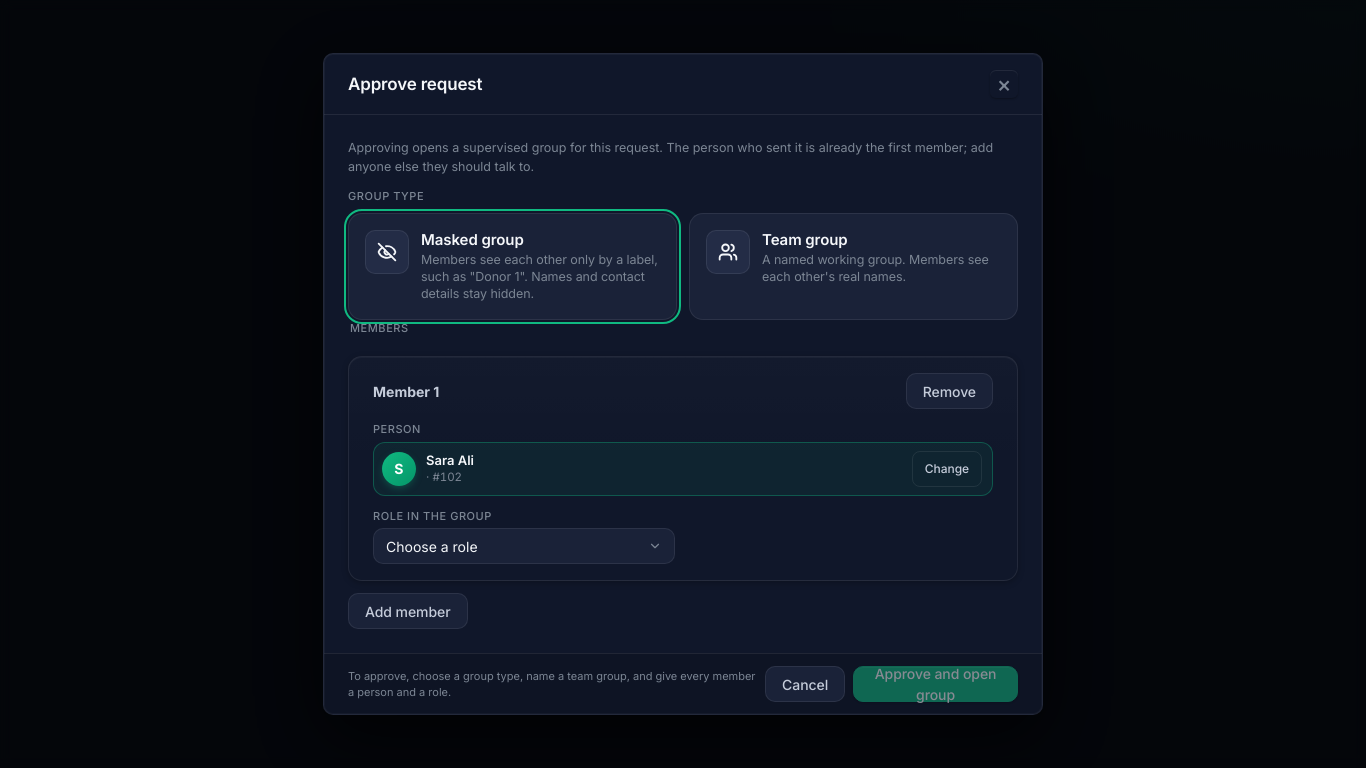
it: ApproveRequestDialog › keeps Approve disabled for a team group until it has a name
The width and height of the screenshot is (1366, 768).
Click the radio button labelled "Team group": (854, 266) [689,213,1018,320]
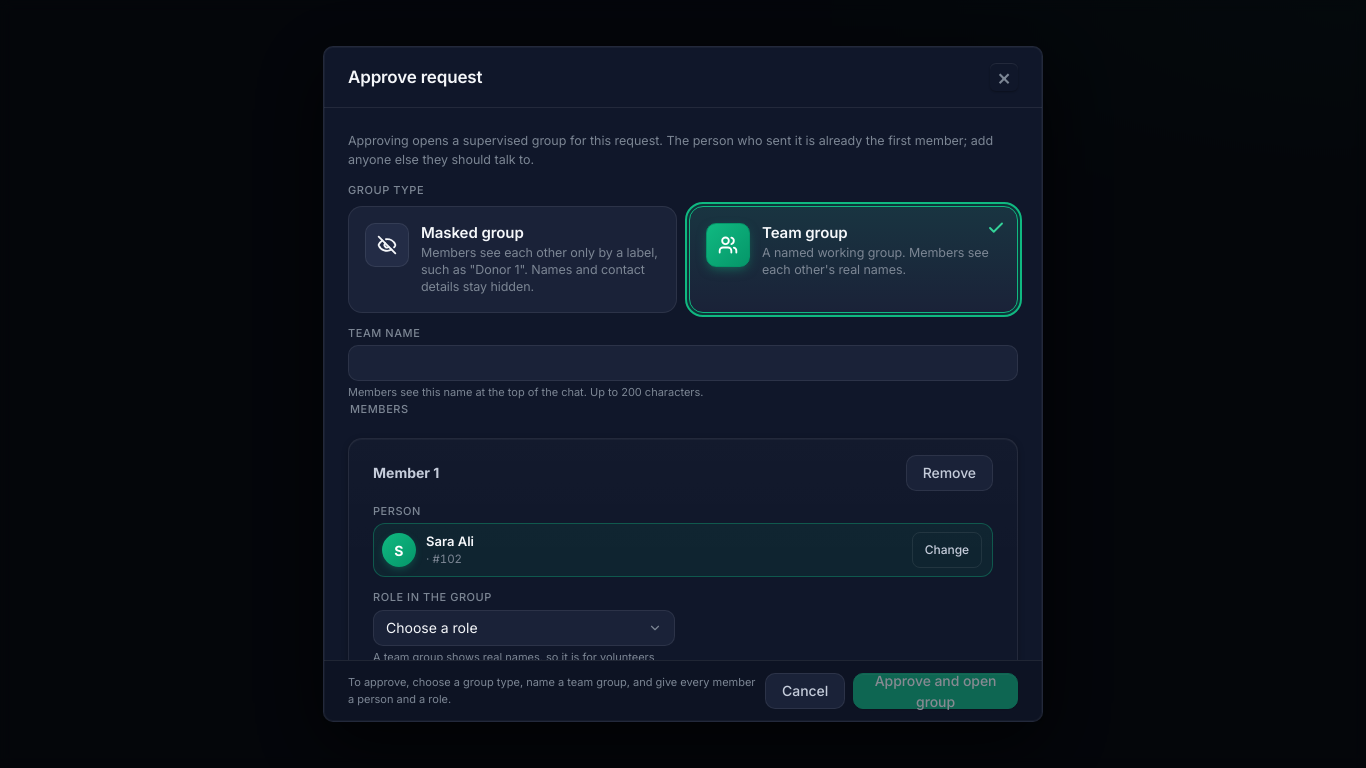
Select "Volunteer" in the dropdown labelled "Role in the group": (524, 628) [373,610,675,646]
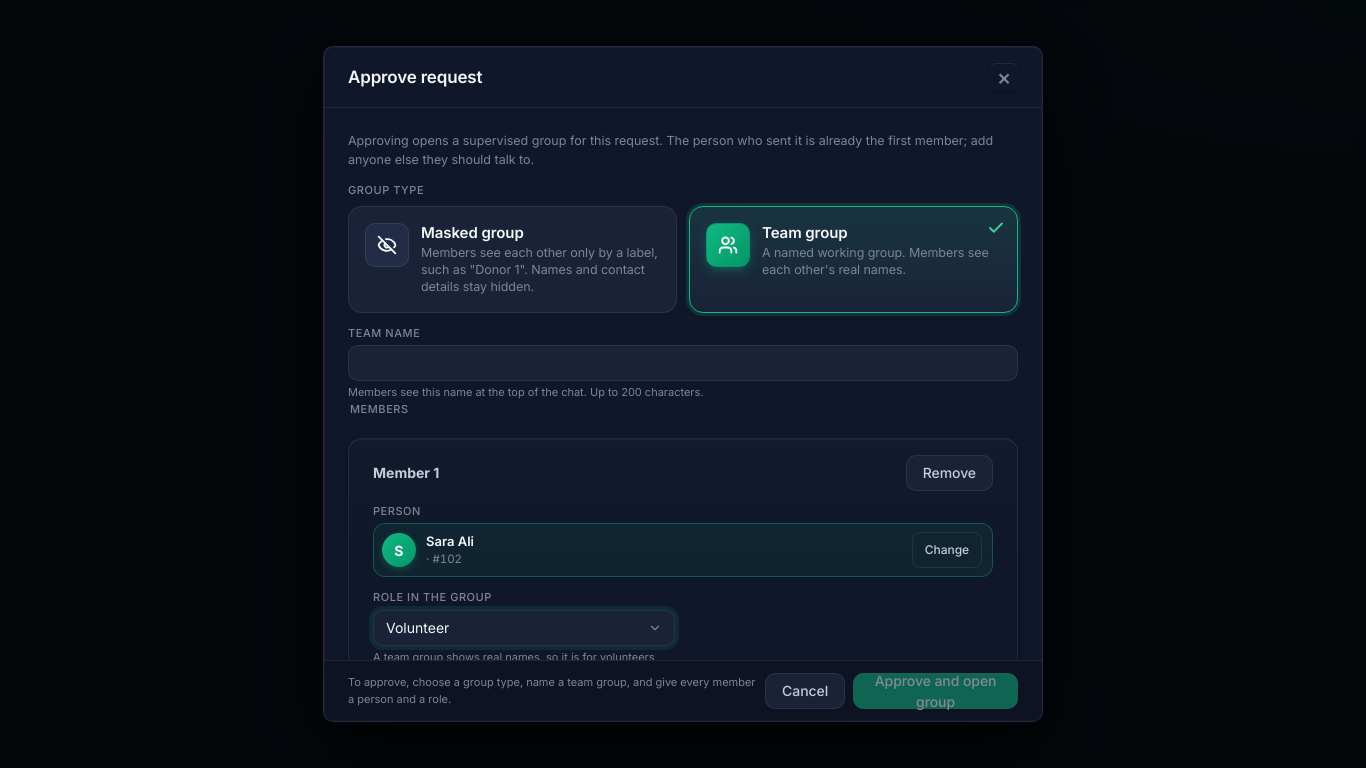
Expected: the button "Approve and open group" is disabled, [853,673,1018,709]
In the field labelled "Team name": (683, 364) [348,346,1018,382], type "Delivery team"
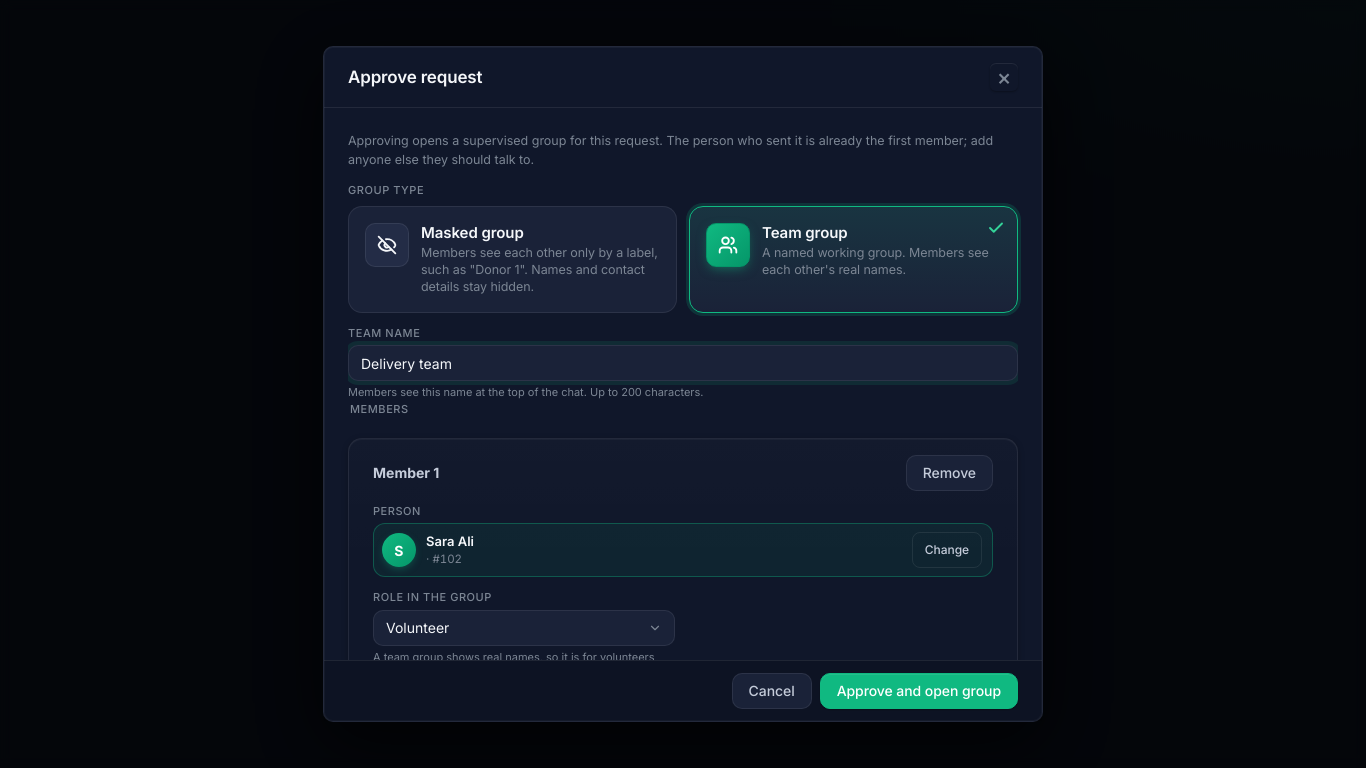
Now the button "Approve and open group" is enabled, box [820,673,1018,709]
